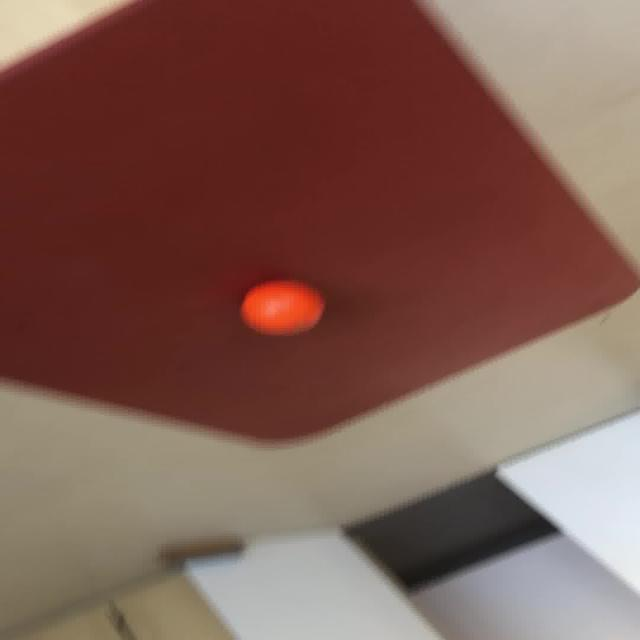orange: (1, 0, 637, 443), (238, 279, 324, 336)
